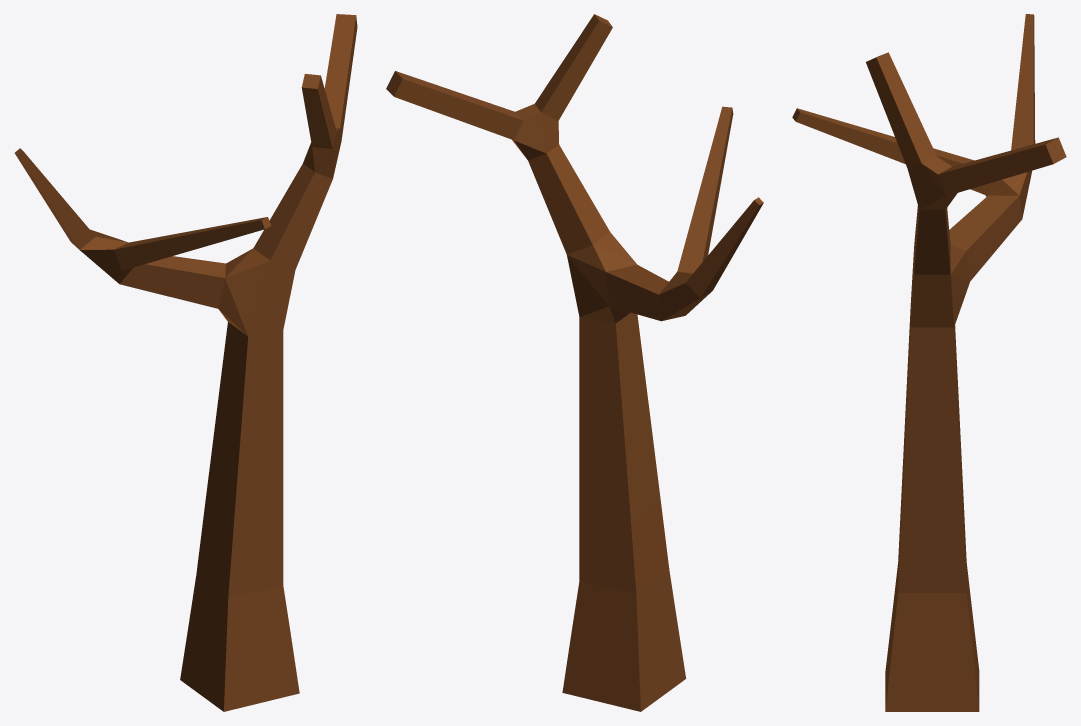
3 renders of one model, left to right at view 1: azimuth 30°, elevation 25°; view 2: azimuth 150°, elevation 25°; view 3: azimuth 270°, elevation 25°, orthographic. The views are drawn at different scales.
Visible parts, largest first — view 1: 큐브.001; view 2: 큐브.001; view 3: 큐브.001.
Part boxes in pixels (x1,y1,x2,y2): 큐브.001: (15,14,357,711); 큐브.001: (386,14,763,711); 큐브.001: (792,14,1066,711).
Bounding box in the file's own units: 1700 × 2843 × 1066.
